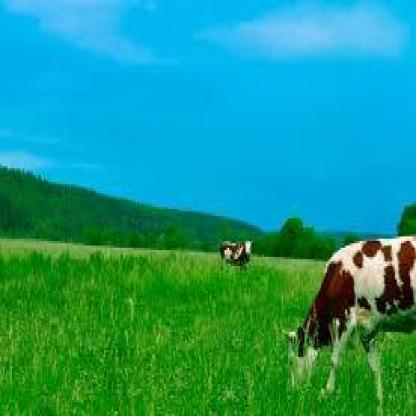cow: (282, 238, 416, 408), (219, 239, 254, 268)
